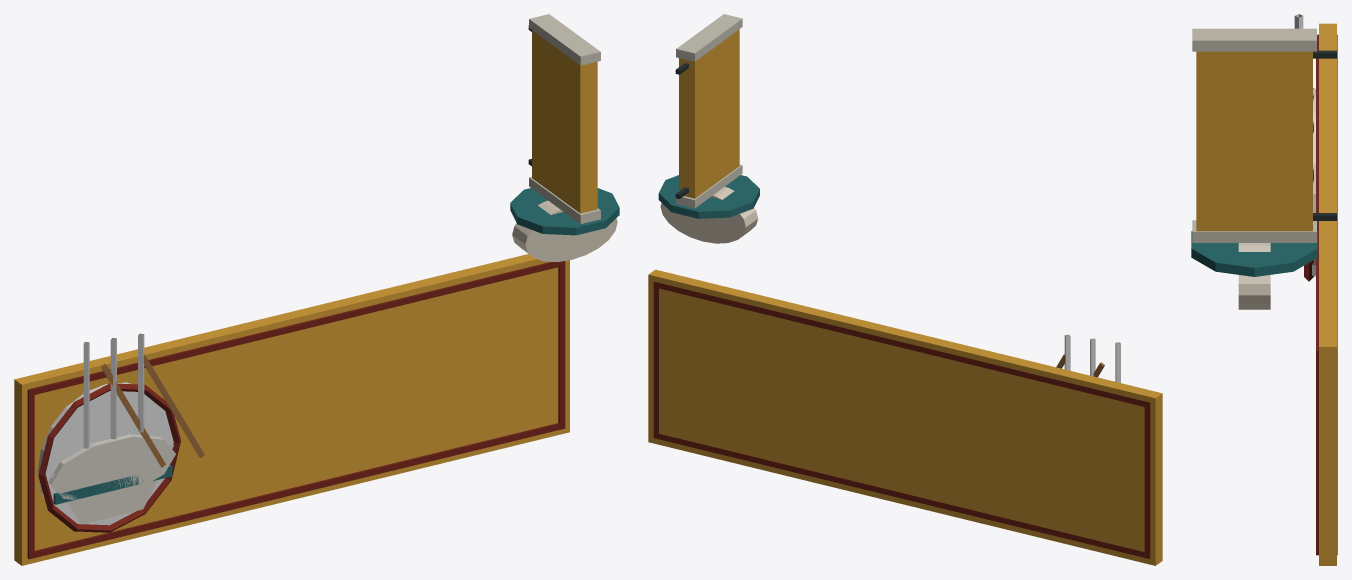
The model's file is bang_pho_ba_tam_40.glb.
3 views of the same model, side by side, from view 1: azimuth 30°, elevation 25°; view 2: azimuth 150°, elevation 25°; view 3: azimuth 270°, elevation 25° (orthographic). The views are drawn at different scales.
Parts seen in each view (by area): view 1: bang_pho_ba_tam_40; view 2: bang_pho_ba_tam_40; view 3: bang_pho_ba_tam_40.
Boxes of the visible parts, left/top/right/bottom form: bang_pho_ba_tam_40: left=14, top=14, right=619, bottom=565; bang_pho_ba_tam_40: left=648, top=14, right=1162, bottom=565; bang_pho_ba_tam_40: left=1191, top=14, right=1337, bottom=565.
Size of the model in its own units: 3.91 by 2.81 by 0.7258.
